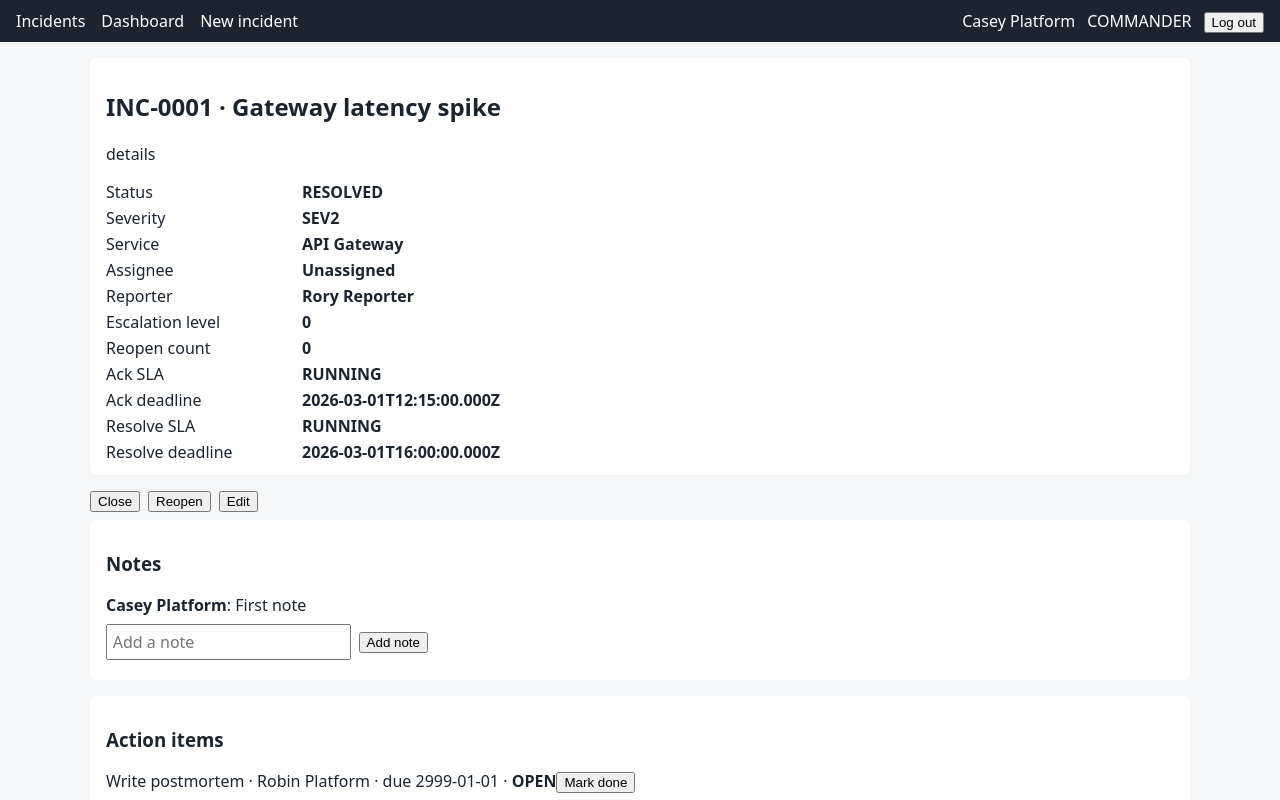
Test: incident detail › shows the server message in the dialog and keeps it open on a 409
Click the button with test id "action-reopen". click: (179,502)
box: [148,491,211,512]
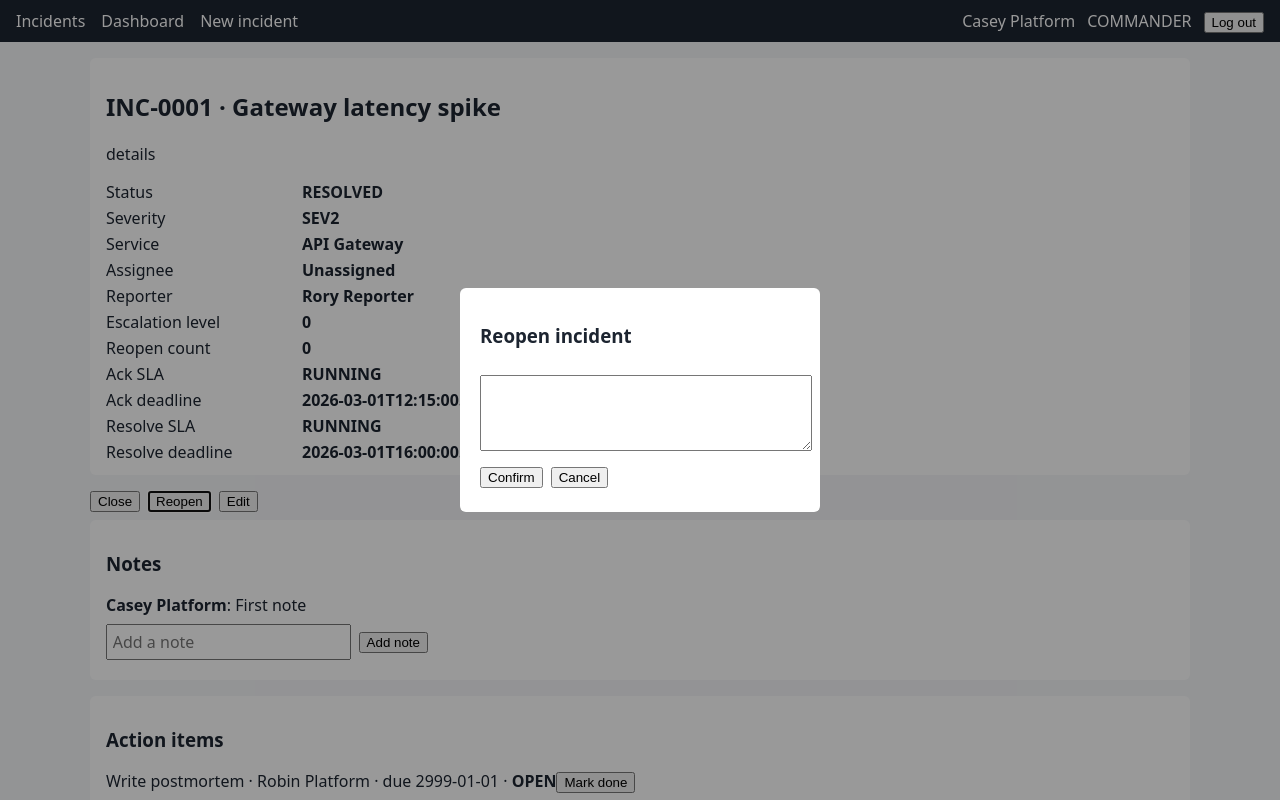
Expected: the dialog with test id "dialog" is shown, [460,288,820,512]
Type "no" into the text box with test id "dialog-input". click: (646,413)
box: [480,375,812,450]
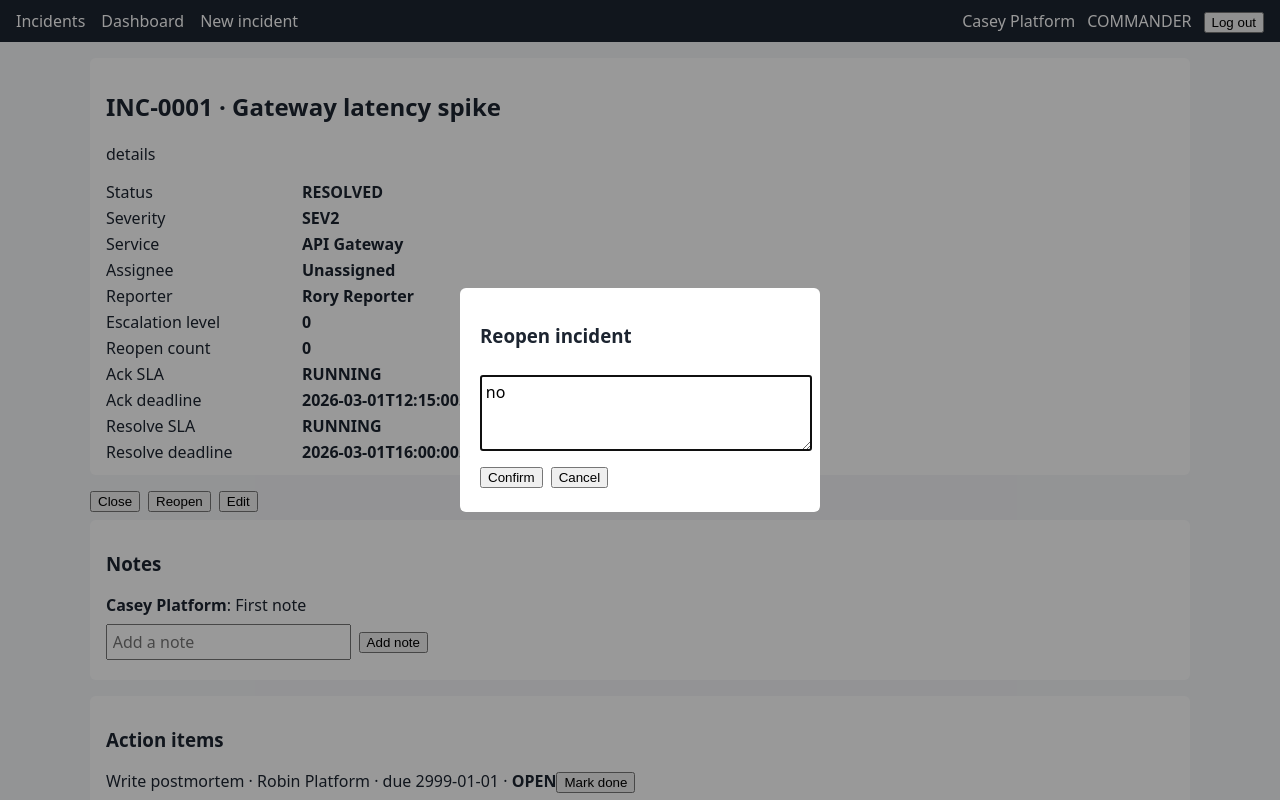
Click the button with test id "dialog-confirm". click: (511,477)
box: [480,466,543,488]
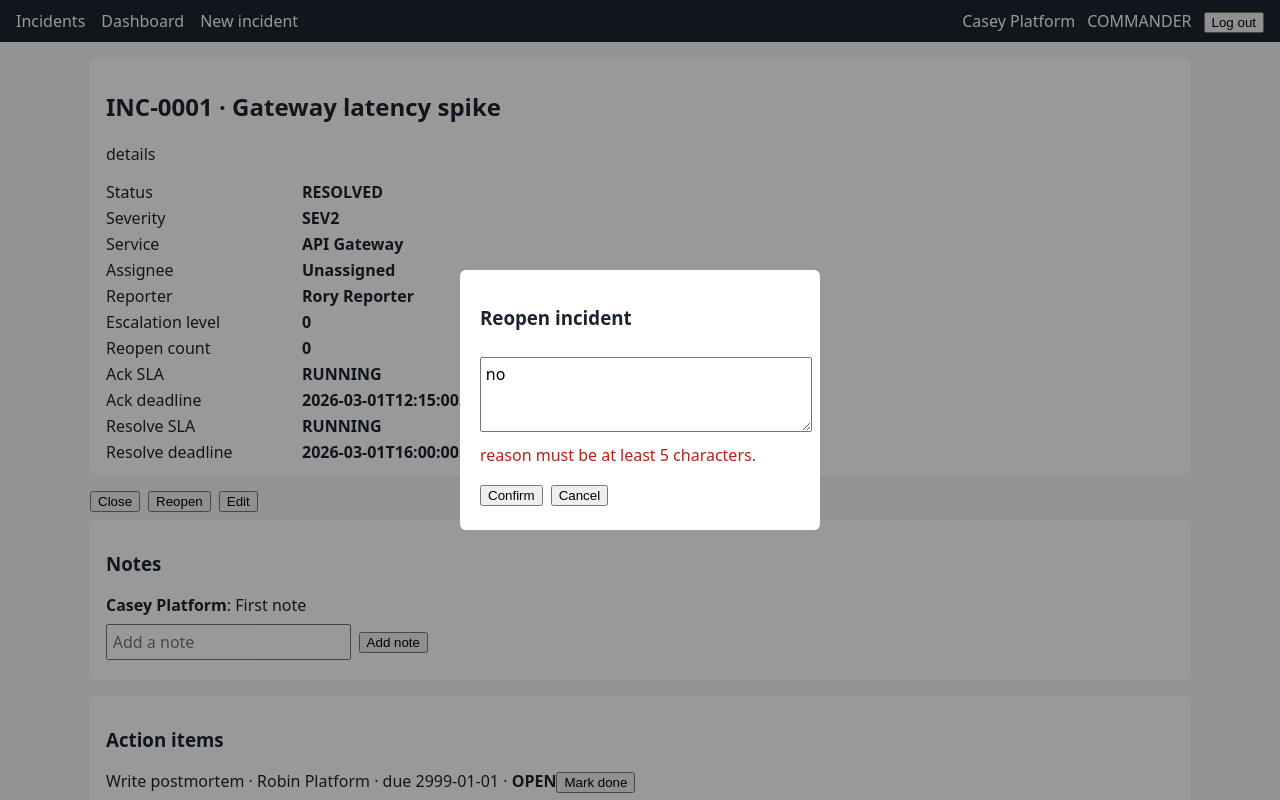
Expected: the dialog with test id "dialog" is shown, [460,270,820,530]
Expected: the text with test id "dialog-error" shows "at least 5 characters", [480,444,756,466]
Click the button with test id "dialog-cancel". click: (579,495)
box: [551,485,608,506]
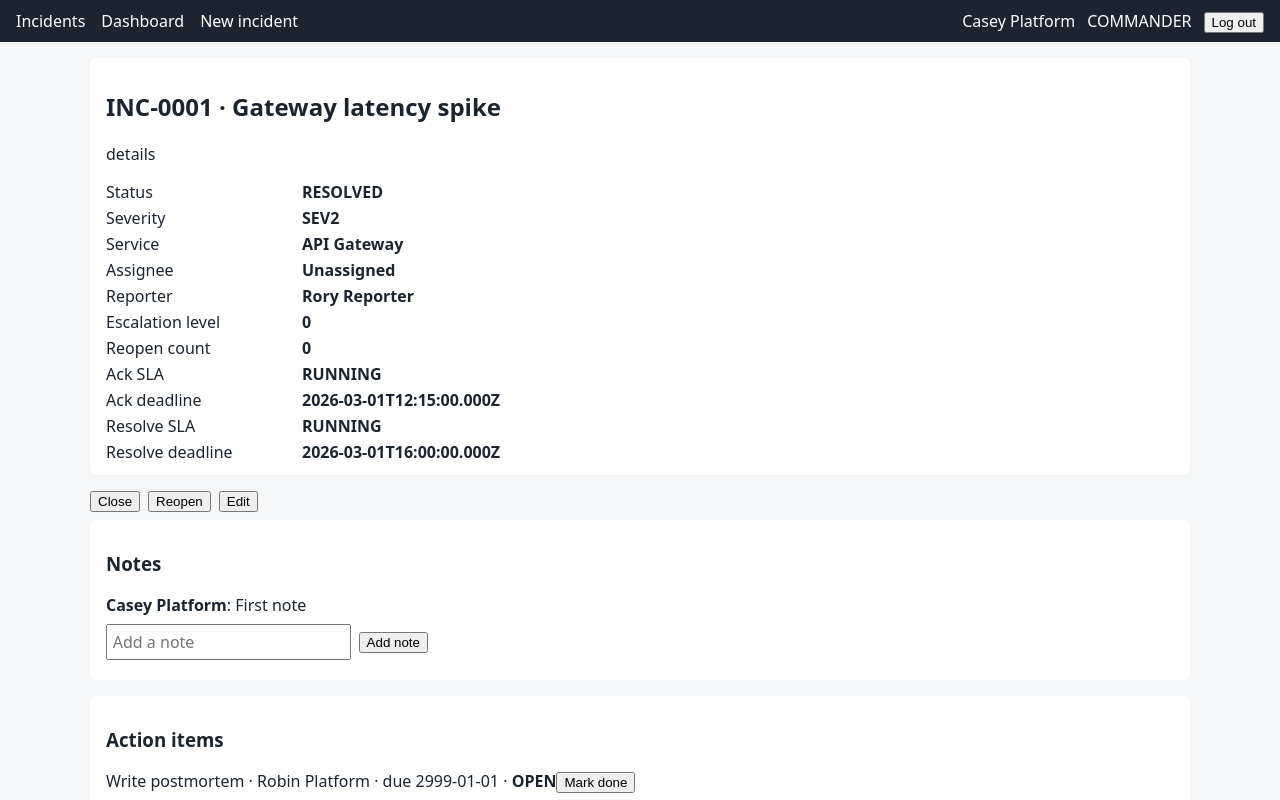
Click the button with test id "action-close". click: (115,502)
box: [90,491,140,512]
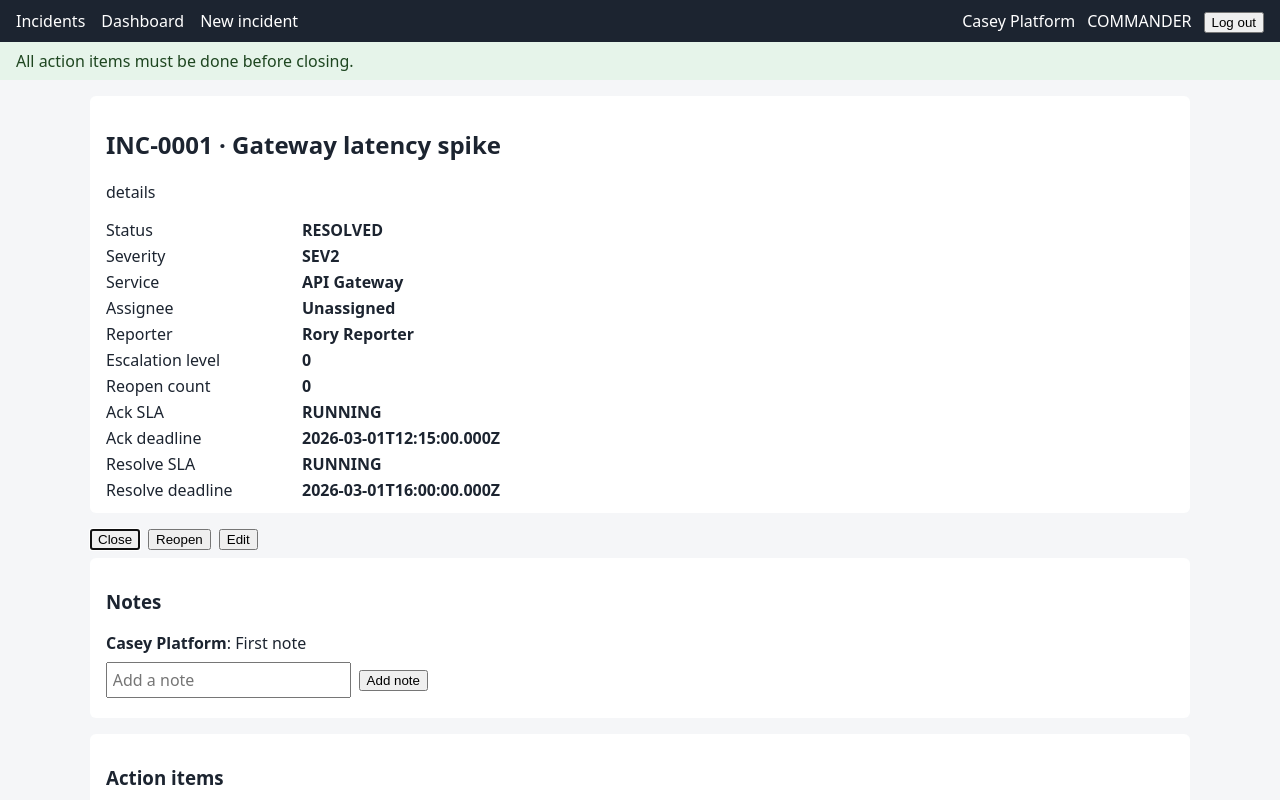
Expected: the message with test id "toast" shows "All action items must be done", [16,50,354,72]
